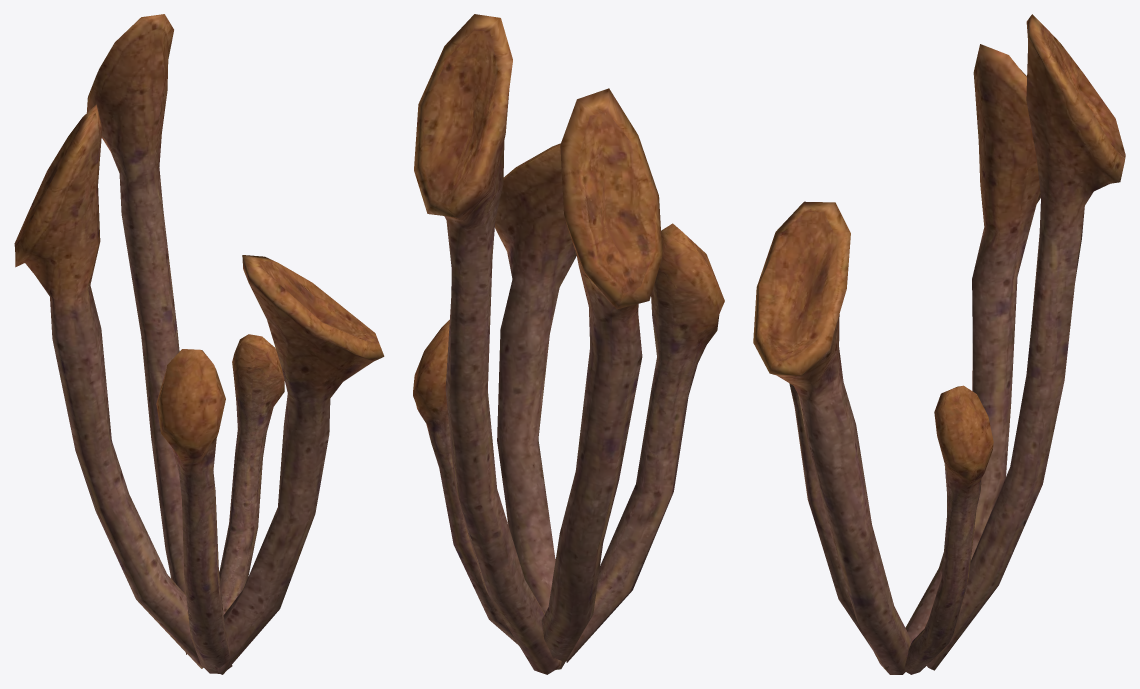
Rendered from Plant - Alien Shroom plant2 4-B03D_c1R.glb.
3 views of the same model, side by side, from view 1: azimuth 30°, elevation 25°; view 2: azimuth 150°, elevation 25°; view 3: azimuth 270°, elevation 25° (orthographic). The views are drawn at different scales.
Parts seen in each view (by area): view 1: Shroom_Plant2_4_L0(Clone); view 2: Shroom_Plant2_4_L0(Clone); view 3: Shroom_Plant2_4_L0(Clone).
Boxes of the visible parts, x1,y1,x2,y2 form: Shroom_Plant2_4_L0(Clone): (14,14,384,674); Shroom_Plant2_4_L0(Clone): (413,14,724,674); Shroom_Plant2_4_L0(Clone): (753,14,1125,674).
Size of the model in its own units: 0.485 by 1.11 by 0.5759.
Materials: 1 (1 with a texture image).
